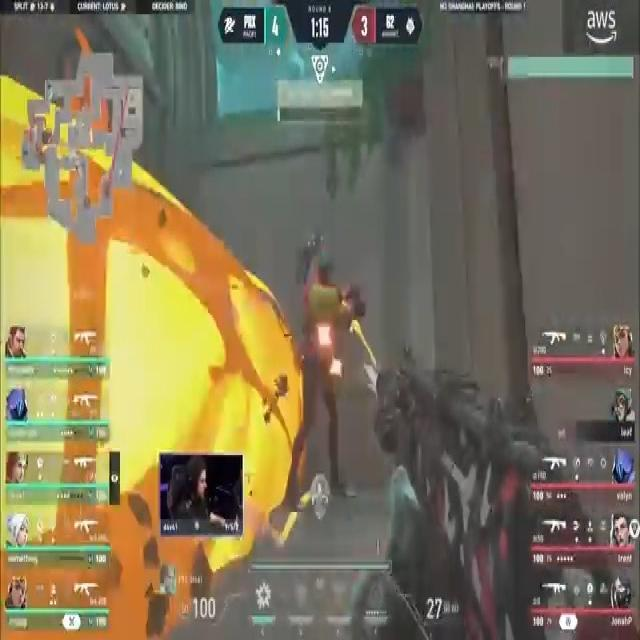enemy: (290, 248, 356, 530)
